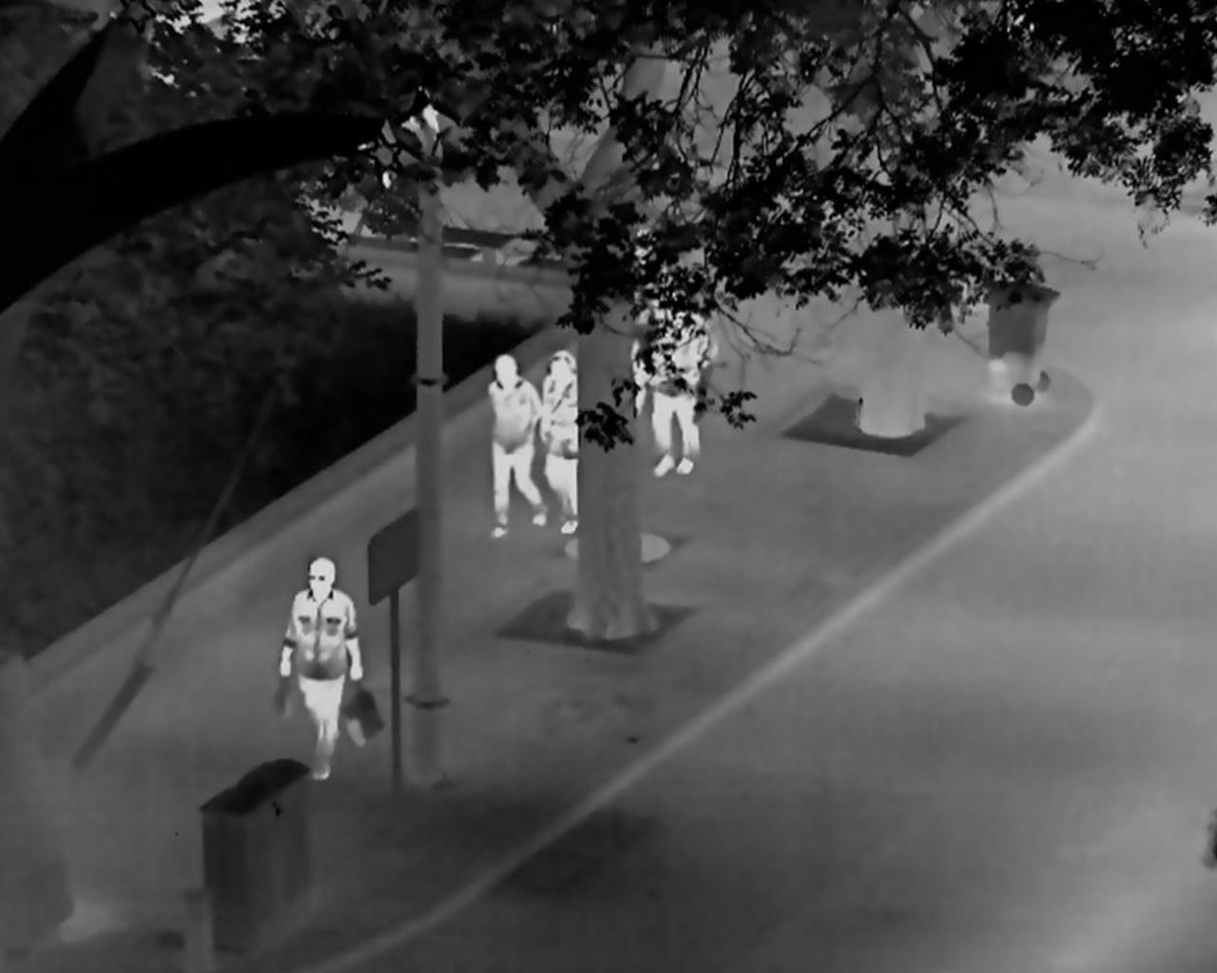person: (278, 554, 366, 780), (633, 287, 711, 477), (484, 353, 550, 540), (539, 349, 580, 536)
